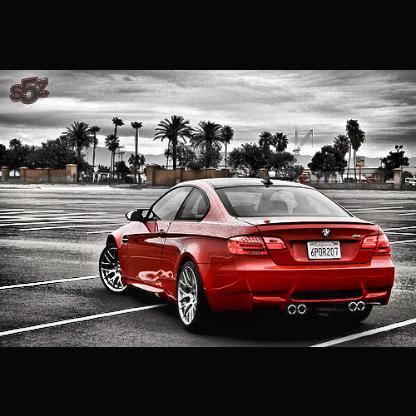BMW M3 Coupe 2012: (101, 178, 396, 329)
